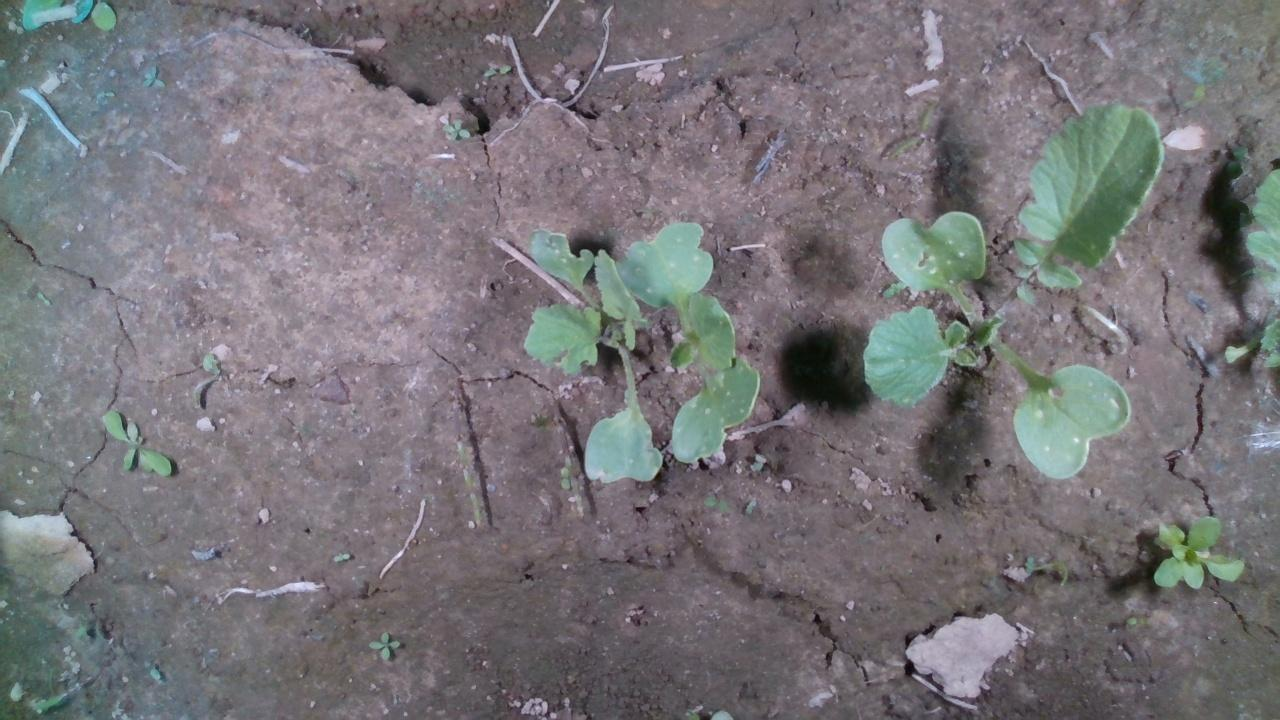weed: (100, 408, 173, 477), (886, 97, 937, 159), (365, 631, 401, 660), (139, 62, 166, 88), (440, 118, 470, 141), (700, 494, 728, 514)
